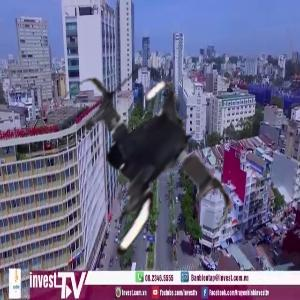drone: (24, 60, 245, 281)
